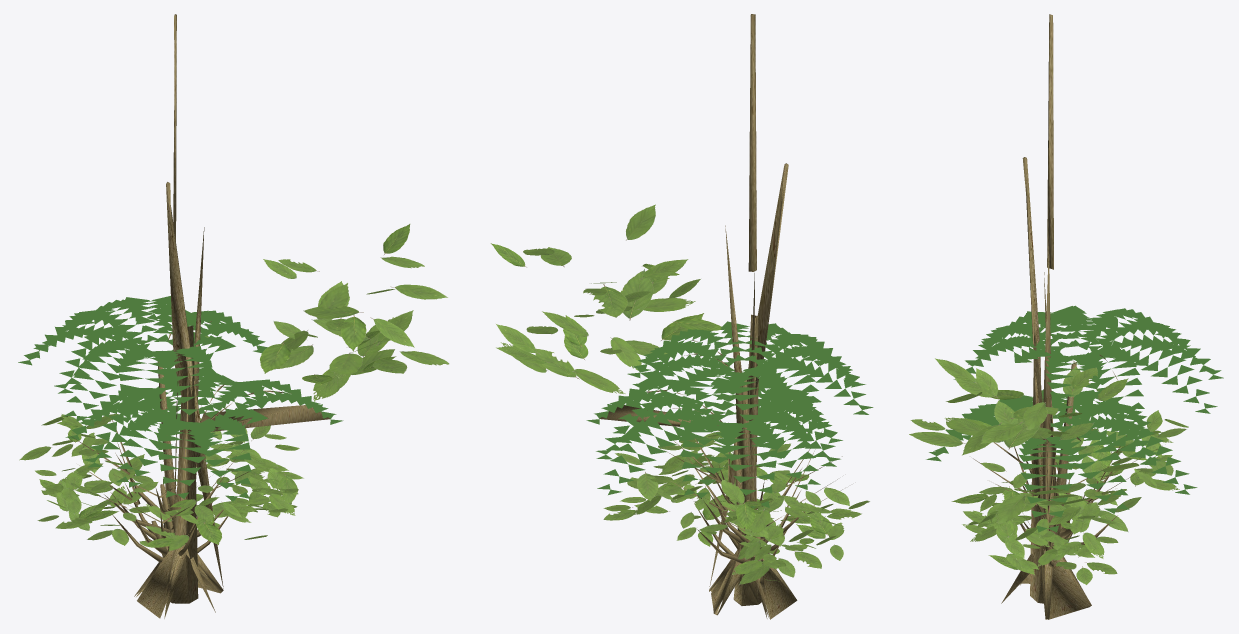
Rendered from tropical-trees-low.glb.
The picture shows the model from 3 angles, left to right: view 1: azimuth 30°, elevation 25°; view 2: azimuth 150°, elevation 25°; view 3: azimuth 270°, elevation 25°; orthographic projection.
Visible parts, largest first — view 1: Leaves.005, Leaves.004, Leaves.006, Leaves.007, Branchwork.003, Branchwork, Leaves.002, Leaves.003, Leaves.001, Leaves, Branchwork.002, Branchwork.001 (+4 smaller); view 2: Leaves.005, Leaves.004, Leaves.006, Leaves.007, Leaves.002, Leaves, Branchwork.001, Branchwork, Leaves.001, Branchwork.003, Leaves.003, Branchwork.002 (+4 smaller); view 3: Leaves.005, Leaves.004, Leaves.006, Leaves.007, Leaves.001, Branchwork, Leaves.003, Branchwork.001, Branchwork.002, Branchwork.003, Leaves, Leaves.002 (+4 smaller).
Part boxes in pixels (x1,y1,x2,y2): Leaves.005: (18, 296, 267, 431); Leaves.004: (65, 367, 343, 501); Leaves.006: (35, 425, 298, 547); Leaves.007: (19, 414, 303, 551); Branchwork.003: (136, 325, 223, 618); Branchwork: (134, 182, 223, 596); Leaves.002: (274, 310, 449, 401); Leaves.003: (303, 305, 414, 378); Leaves.001: (263, 224, 447, 337); Leaves: (205, 281, 396, 384); Branchwork.002: (160, 227, 207, 618); Branchwork.001: (170, 14, 222, 603); Leaves.005: (613, 321, 873, 460); Leaves.004: (586, 377, 842, 508); Leaves.006: (603, 431, 869, 584); Leaves.007: (620, 434, 861, 559); Leaves.002: (496, 315, 670, 393); Leaves: (496, 269, 721, 364); Branchwork.001: (709, 14, 761, 613); Branchwork: (709, 163, 788, 617); Leaves.001: (490, 204, 700, 317); Branchwork.003: (710, 314, 797, 619); Leaves.003: (591, 263, 695, 317); Branchwork.002: (711, 225, 795, 614); Leaves.005: (953, 305, 1223, 437); Leaves.004: (926, 389, 1197, 532); Leaves.006: (951, 402, 1179, 584); Leaves.007: (962, 389, 1188, 558); Leaves.001: (935, 358, 1128, 443); Branchwork: (1022, 157, 1091, 619); Leaves.003: (909, 392, 1058, 455); Branchwork.001: (1038, 14, 1090, 619); Branchwork.002: (1020, 246, 1090, 619); Branchwork.003: (1001, 323, 1056, 615); Leaves: (952, 366, 1139, 493); Leaves.002: (995, 427, 1089, 523).
Bounding box in the file's own units: 10.59 × 15.31 × 7.63.
3 materials, 2 textured.
